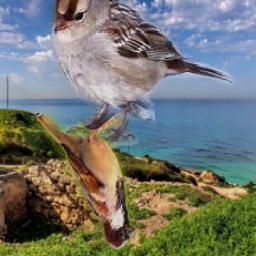Sparrow: (44, 0, 233, 150), (37, 114, 136, 250)
